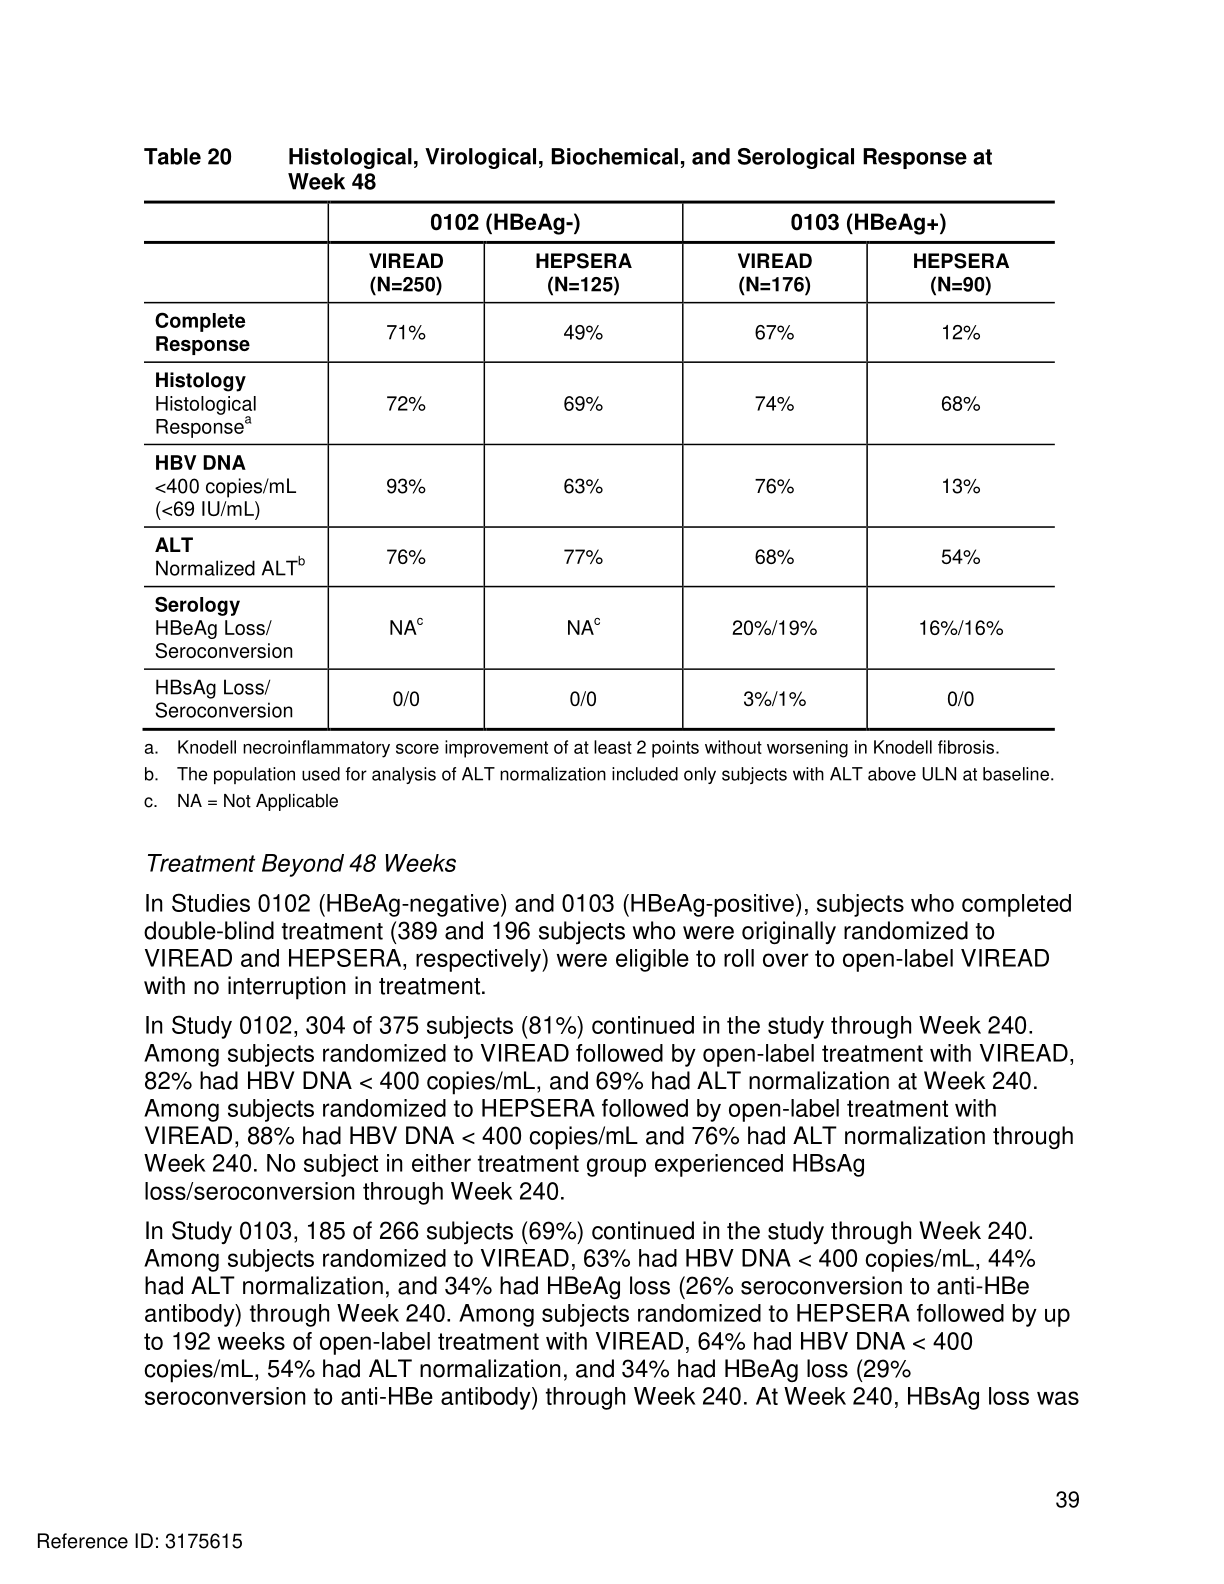partial_lined_merged_cells: (141, 197, 1059, 732)
